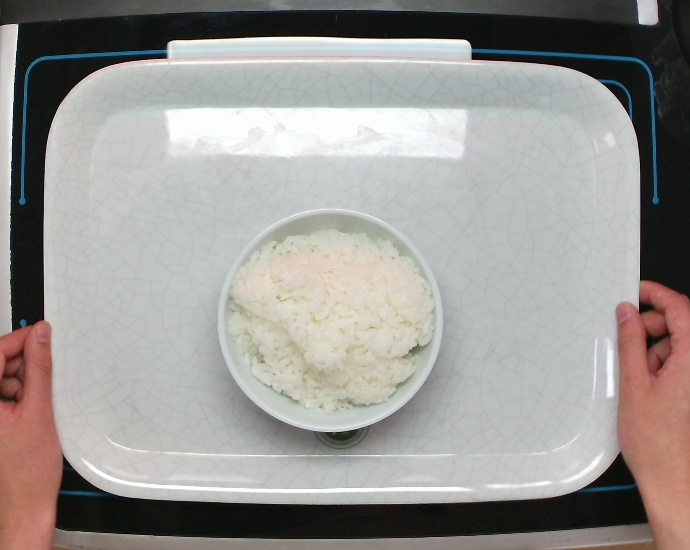JYsf-Fan_Wan: (215, 204, 445, 434)
